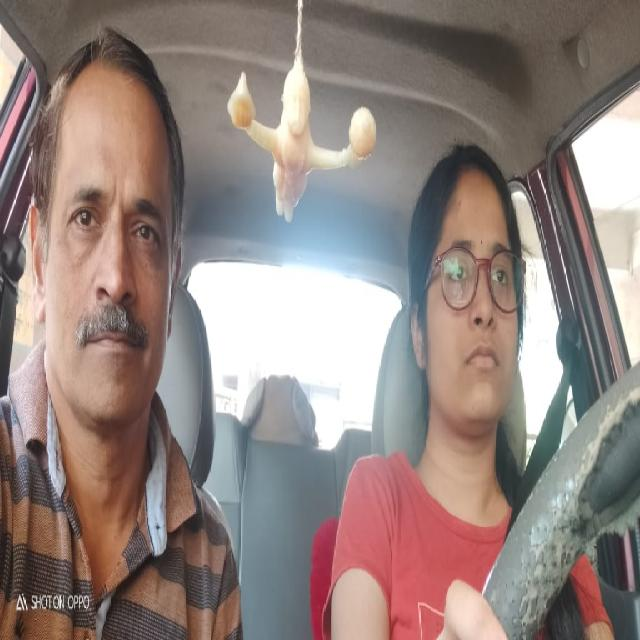person: (24, 29, 184, 438), (405, 128, 527, 432)
